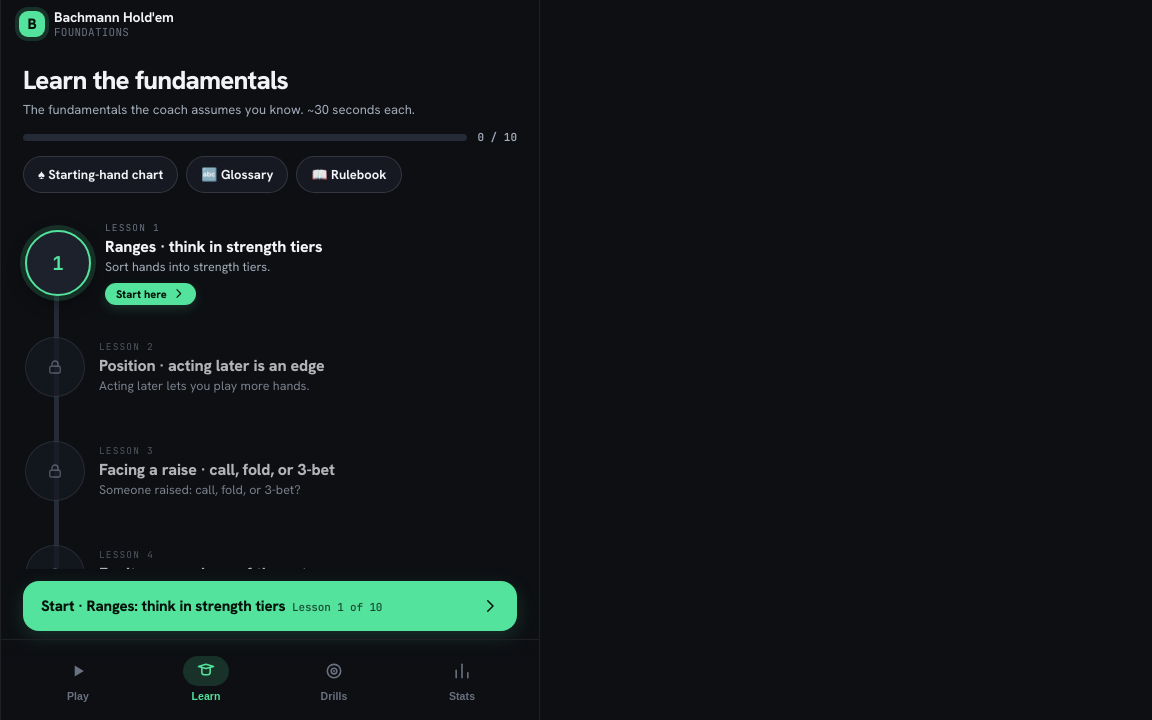
it: LearnView rules entry › opens the rules reference overlay without opening a lesson
Click the button with test id "open-rules" at (349, 174), box [296,156,402,193]
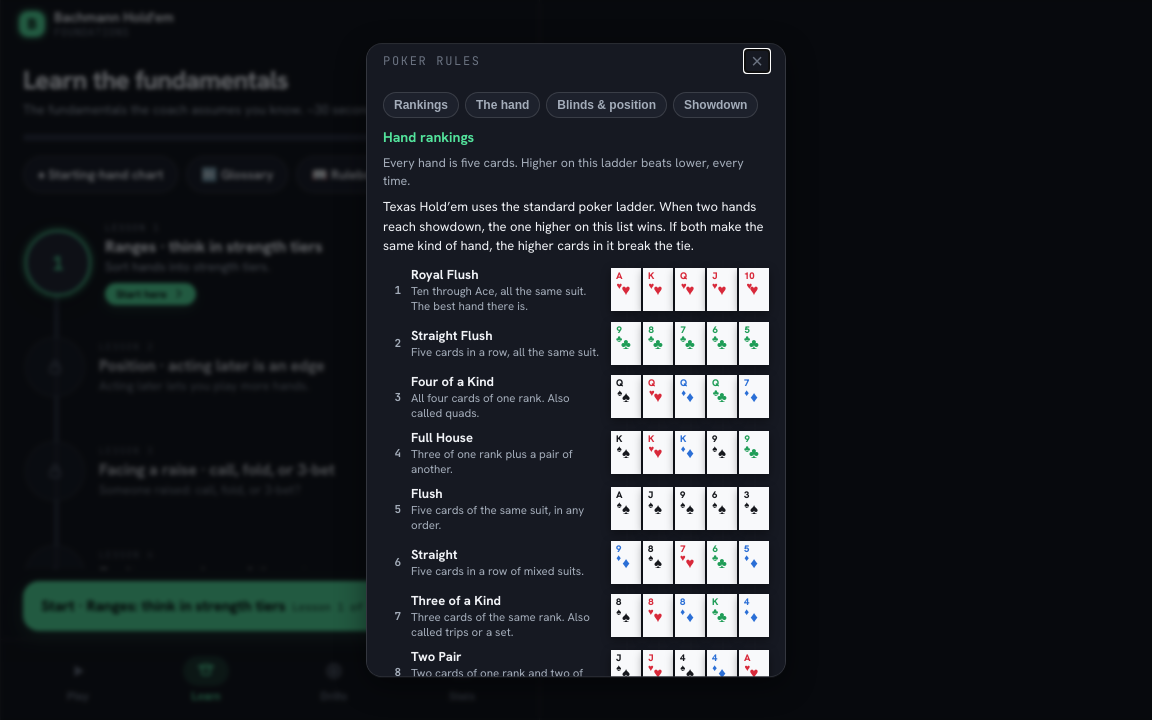
Check: the dialog with test id "rules-modal" is shown, box [366,43,786,677]
